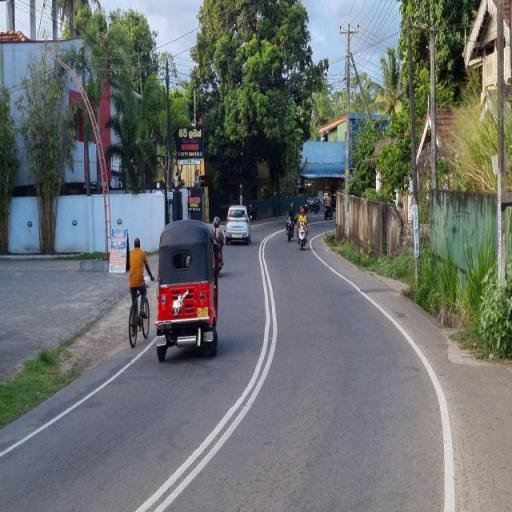double_white_line: (136, 226, 278, 510)
